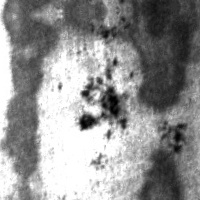inclusion: (72, 53, 133, 137), (158, 118, 189, 157)
patches: (0, 15, 63, 179), (130, 7, 198, 112), (136, 148, 187, 199), (55, 11, 113, 40)
